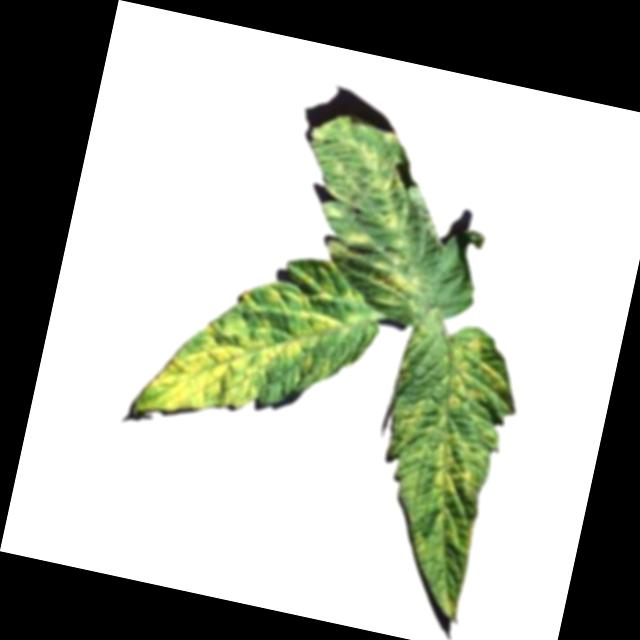Leaf_Mold: (126, 228, 381, 464), (344, 311, 528, 626), (281, 109, 456, 311)
